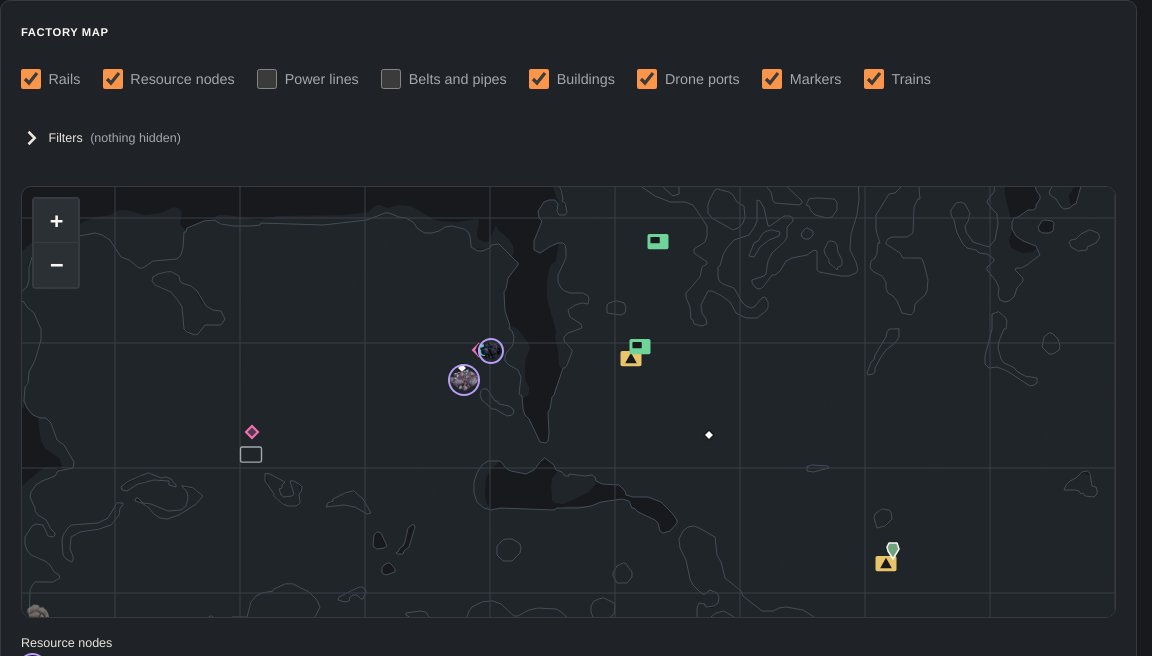
Test case: map filters › keeps All and None to the four states and leaves the backed-up choice alone
Click the text "Filters" at x=66, y=138, box [48,128,83,147]
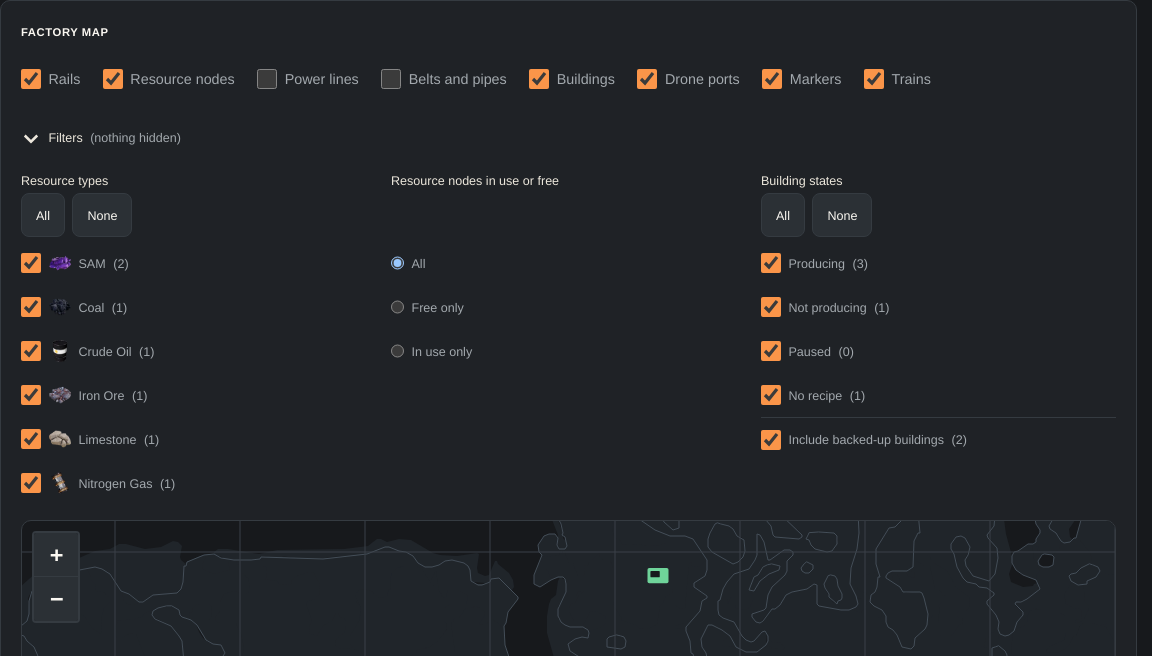
Click the checkbox labelled "Include backed-up buildings (2)" at x=771, y=440, box [761,430,781,450]
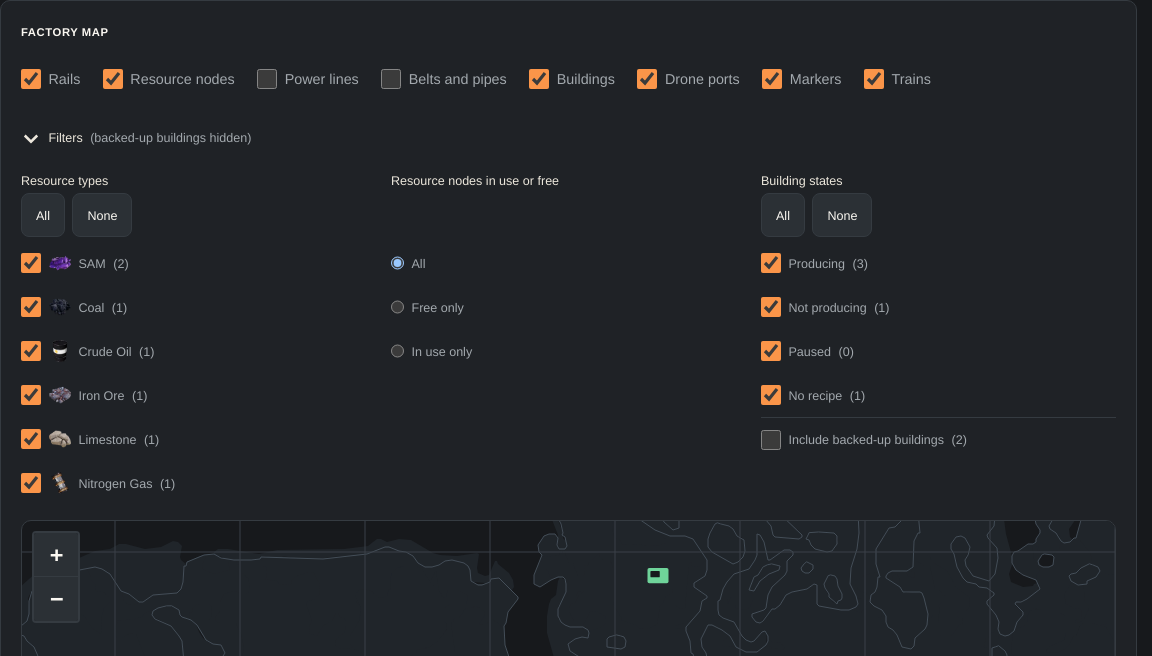
Click the button "None" below "Building states" at x=842, y=215, box [812,193,872,237]
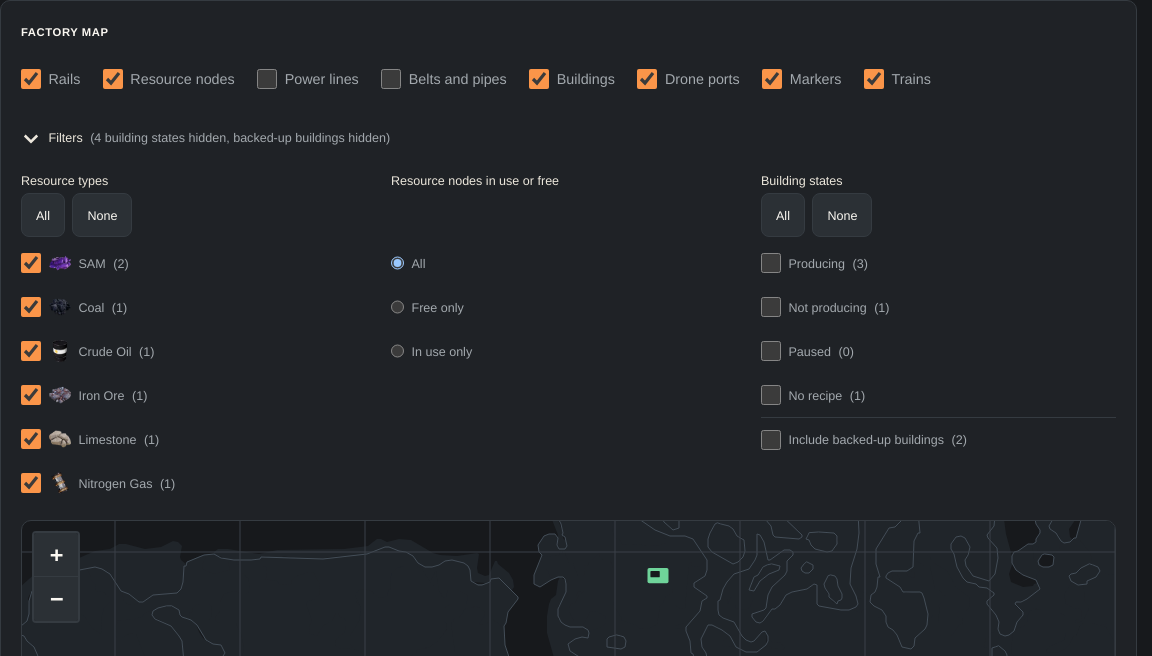
Expected: the checkbox labelled "Include backed-up buildings (2)" is not checked, [761,430,781,450]
Expected: the checkbox labelled "Producing (3)" is not checked, [761,253,781,273]
Click the 2nd button "All" at x=783, y=215, box [761,193,805,237]
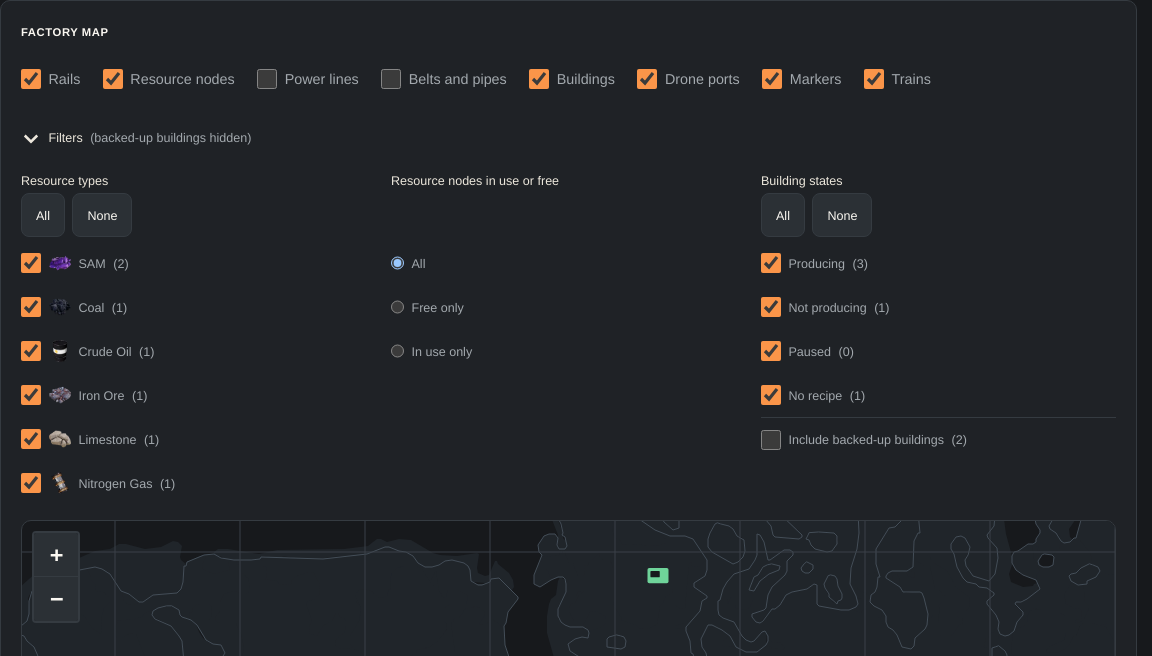
Expected: the checkbox labelled "Include backed-up buildings (2)" is not checked, [761,430,781,450]
Expected: the checkbox labelled "Producing (3)" is checked, [761,253,781,273]
